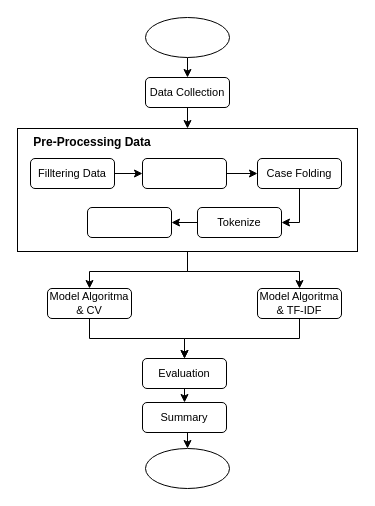
Image size: 375x506. Some labels were removed from this diagram. The centre of each missing label's shape, as x and y in pixels:
"Finish" goes at (187,468).
"Labeling Data" goes at (184,173).
"Start" goes at (187,37).
"Stopword & Stemming" goes at (129,222).
